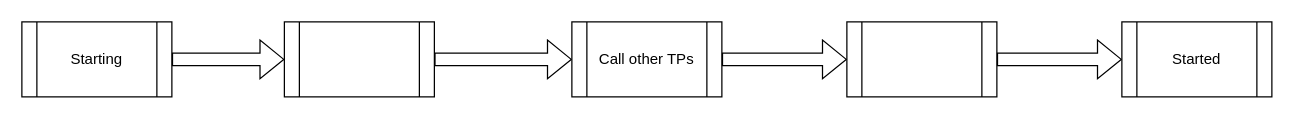
The diagram is 1294 pixels wide and 119 high, and some of its shapes have lost their labels. Here are the shapes that lost their labels. From the top down, the centre of each, then its label:
(358,59): Sub to topic
(921,59): Start Stream (FPGA)
